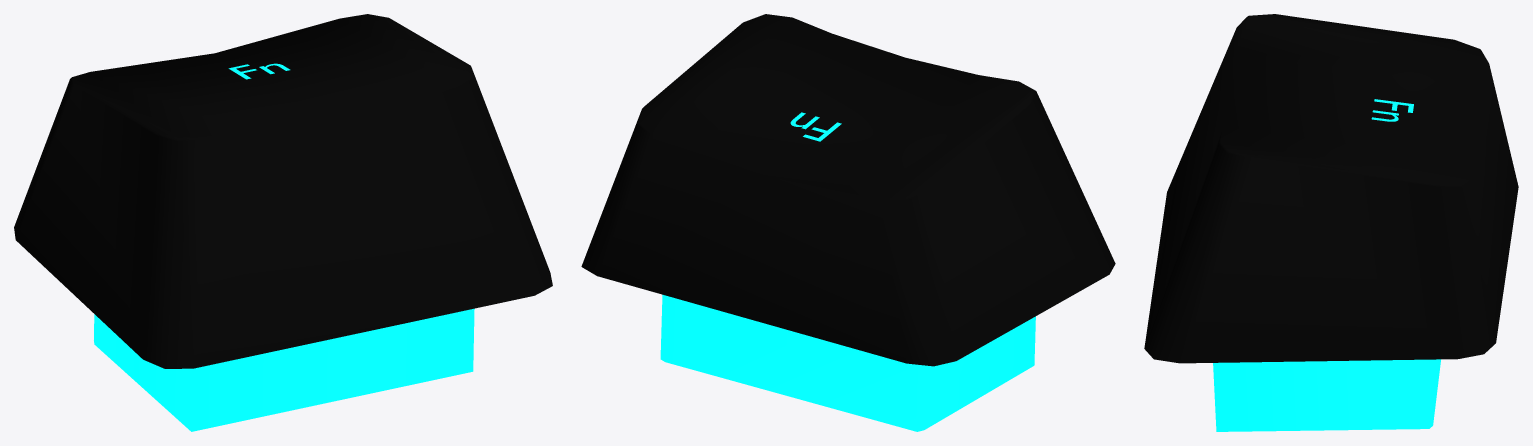
Rendered from fn-BhsndNqJ.glb.
The picture shows the model from 3 angles, left to right: view 1: azimuth 30°, elevation 25°; view 2: azimuth 150°, elevation 25°; view 3: azimuth 270°, elevation 25°; orthographic projection. The views are drawn at different scales.
Parts seen in each view (by area): view 1: StudyShelf_494; view 2: StudyShelf_494; view 3: StudyShelf_494.
Part boxes in pixels (<box>): StudyShelf_494: <box>14,14,552,431</box>; StudyShelf_494: <box>581,14,1115,431</box>; StudyShelf_494: <box>1144,14,1518,431</box>.
Bounding box in the file's own units: 5.45 × 3.7 × 4.41.
